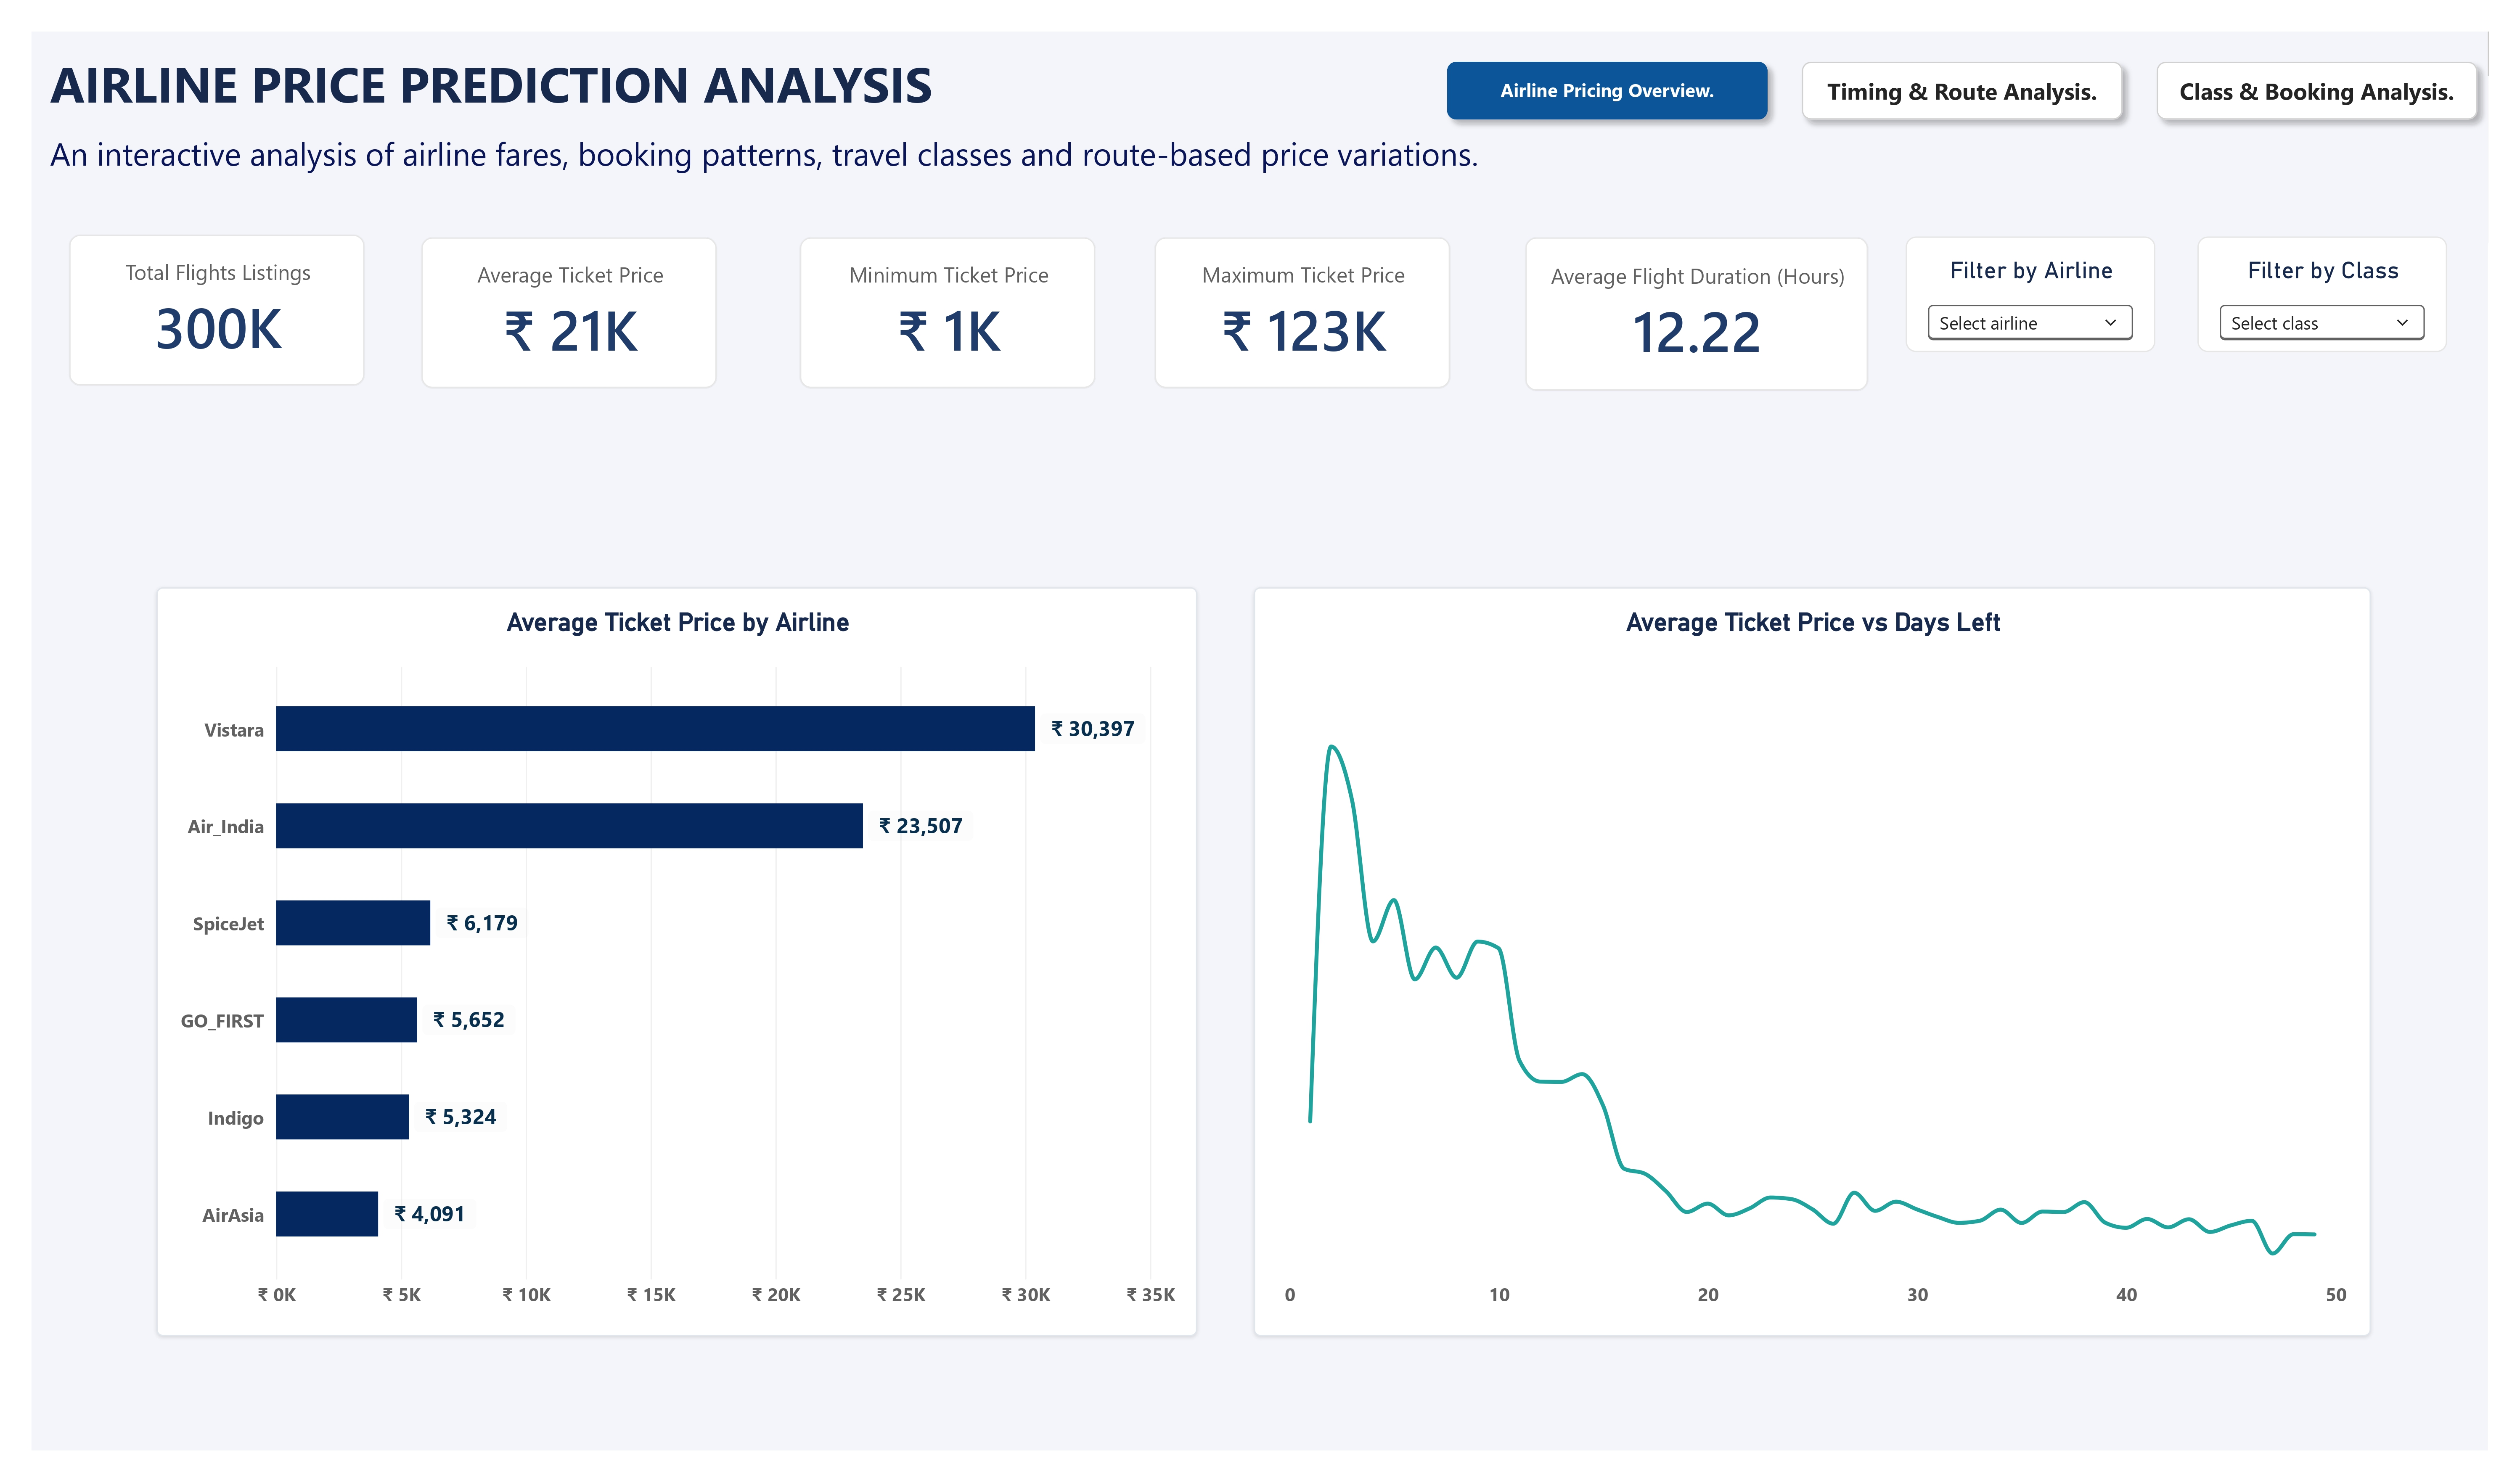

The page's visual inventory and layout, read from the dashboard file:
{"tool":"powerbi","page":{"name":"Airline Pricing Overview.","canvas":[1869,1080],"ordinal":0},"visuals":[{"type":"textbox","box":[14,14,681.3,61.7],"z":0},{"type":"textbox","box":[14,76,1215,67.5],"z":1000},{"type":"clusteredBarChart","title":"Average Ticket Price by Airline","fields":{"Category":["Airline_Data.airline"],"Y":["Airline_Data.Average Ticket Price"]},"box":[95,422.5,791.7,570],"z":2000},{"type":"lineChart","title":"Average Ticket Price vs Days Left","fields":{"Category":["Airline_Data.days_left"],"Y":["Airline_Data.Average Ticket Price"]},"box":[930,423.3,850,570],"z":3000},{"type":"cardVisual","fields":{"Data":["Airline_Data.Total Flights"]},"box":[28,154,226.7,116.7],"z":4000},{"type":"cardVisual","fields":{"Data":["Airline_Data.Average Ticket Price"]},"box":[296,156,226.7,116.7],"z":5000},{"type":"cardVisual","fields":{"Data":["Airline_Data.Minimum Ticket Price"]},"box":[584,156,226.7,116.7],"z":6000},{"type":"cardVisual","fields":{"Data":["Airline_Data.Maximum Ticket Price"]},"box":[854,156,226.7,116.7],"z":7000},{"type":"cardVisual","fields":{"Data":["Airline_Data.Average Flight Duration"]},"box":[1136,156,262,118],"z":8000},{"type":"listSlicer","title":"Filter by Airline","fields":{"Values":["Airline_Data.airline"]},"box":[1426,156,190,88],"z":9000},{"type":"listSlicer","title":"Filter by Class","fields":{"Values":["Airline_Data.class"]},"box":[1648,156,190,88],"z":10000},{"type":"pageNavigator","box":[1068,14,802,62],"z":11000}]}

Visuals, with their boxes on the page's 1869x1080 design canvas (x1, y1, x2, y2). These are canvas units, not pixel positions in the 2520x1482 screenshot, which may show the page scaled, cropped or inside an application window:
textbox: bbox=[14, 14, 695, 76]
textbox: bbox=[14, 76, 1229, 144]
"Average Ticket Price by Airline" clusteredBarChart: bbox=[95, 422, 887, 992]
"Average Ticket Price vs Days Left" lineChart: bbox=[930, 423, 1780, 993]
cardVisual - Airline_Data.Total Flights: bbox=[28, 154, 255, 271]
cardVisual - Airline_Data.Average Ticket Price: bbox=[296, 156, 523, 273]
cardVisual - Airline_Data.Minimum Ticket Price: bbox=[584, 156, 811, 273]
cardVisual - Airline_Data.Maximum Ticket Price: bbox=[854, 156, 1081, 273]
cardVisual - Airline_Data.Average Flight Duration: bbox=[1136, 156, 1398, 274]
"Filter by Airline" listSlicer: bbox=[1426, 156, 1616, 244]
"Filter by Class" listSlicer: bbox=[1648, 156, 1838, 244]
pageNavigator: bbox=[1068, 14, 1870, 76]
